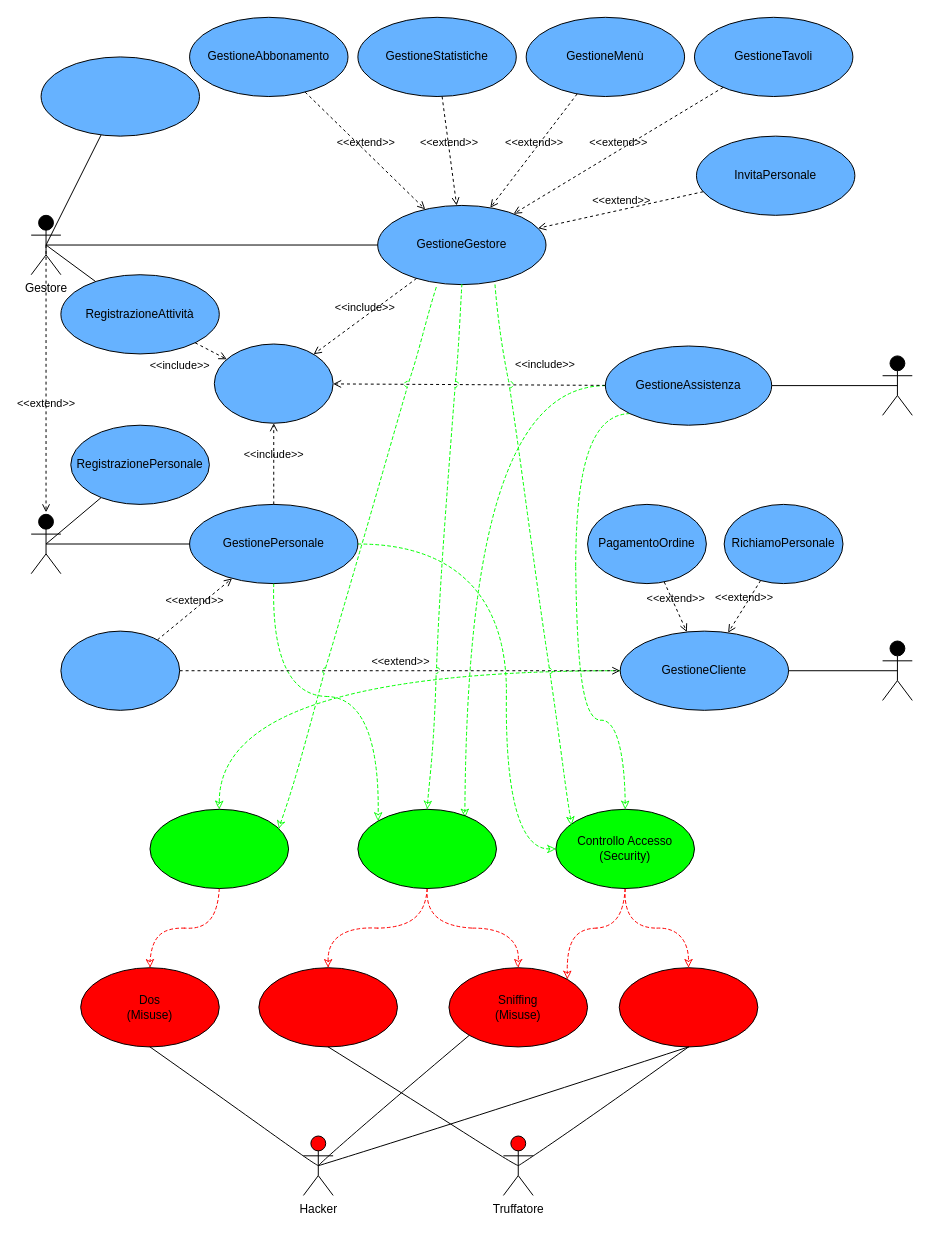
This 943x1234 diagram has some shape labels left out. Each missing label, with the box of its shape:
Assistenza: (882, 355, 912, 415)
Cliente: (882, 640, 912, 700)
Disponibilità (Security): (149, 808, 289, 889)
Frode (Misuse): (258, 967, 397, 1047)
FurtoCredenziali (Misuse): (618, 967, 758, 1047)
GarantireProtezione (Security): (357, 808, 496, 889)
GestioneOrdine: (60, 630, 180, 710)
Login: (213, 343, 333, 423)
Personale: (30, 513, 61, 574)
RegistrazioneGestore: (40, 56, 199, 136)
